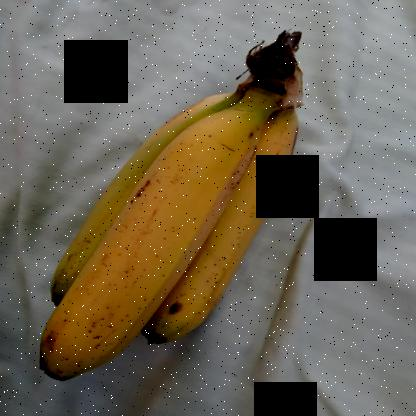ripe: (29, 114, 252, 388)
